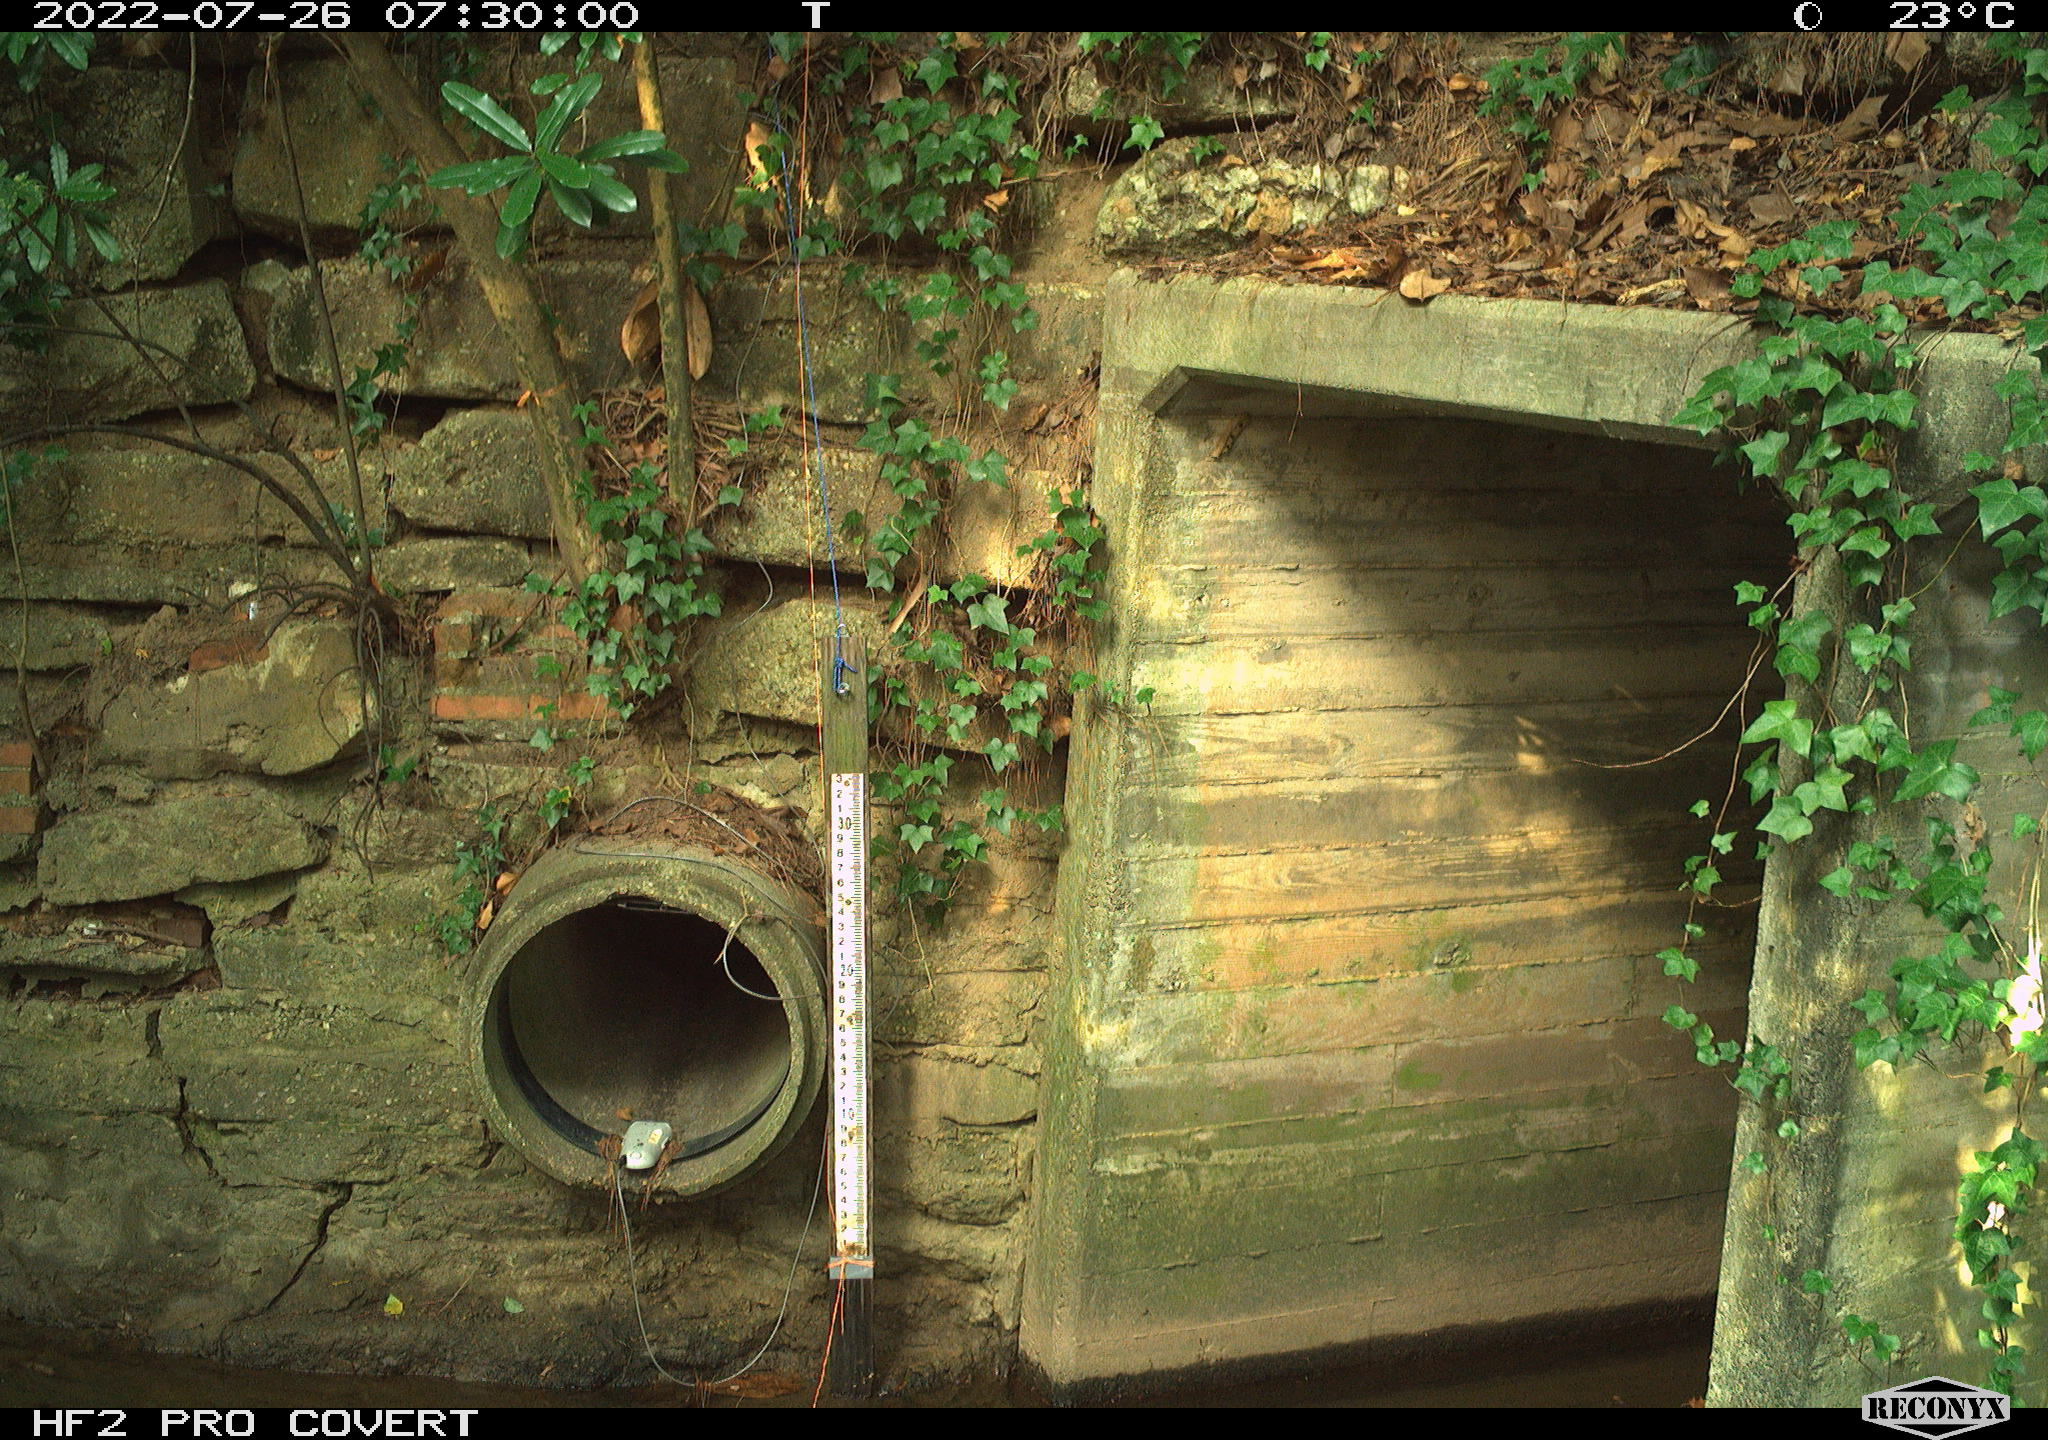Empty Outlet: (482, 904, 792, 1188)
